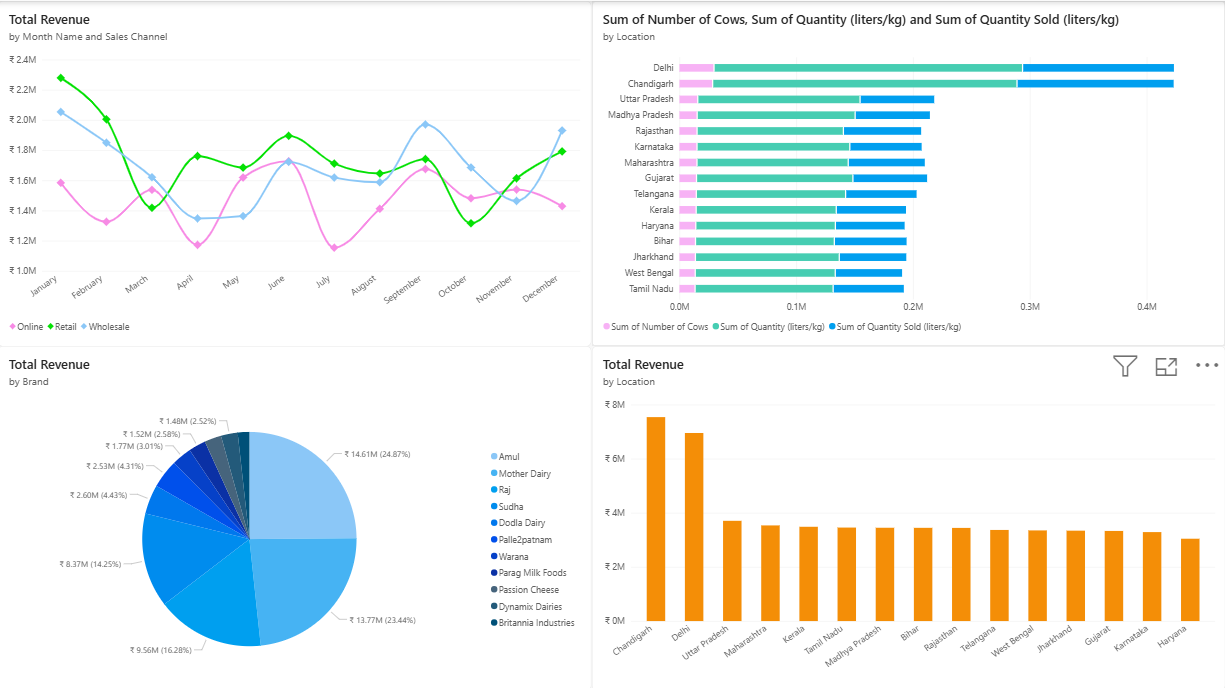

Layout of this report page (visuals, bound fields, positions):
{"tool":"powerbi","page":{"name":"Page 3","canvas":[1920,1080],"ordinal":1},"visuals":[{"type":"lineChart","fields":{"Category":["dairy_dataset.Month Name"],"Series":["dairy_dataset.Sales Channel"],"Y":["dairy_dataset.Total Revenue"]},"box":[0,0,927.5,540.2],"z":0},{"type":"clusteredColumnChart","fields":{"Category":["dairy_dataset.Location"],"Y":["dairy_dataset.Total Revenue"]},"box":[927.5,540.2,991.7,540.2],"z":1},{"type":"barChart","fields":{"Category":["dairy_dataset.Location"],"Y":["Sum(dairy_dataset.Number of Cows)","Sum(dairy_dataset.Quantity (liters/kg))","Sum(dairy_dataset.Quantity Sold (liters/kg))"]},"box":[927.5,0,991.7,540.2],"z":2},{"type":"pieChart","fields":{"Category":["dairy_dataset.Brand"],"Y":["dairy_dataset.Total Revenue"]},"box":[0,540.2,927.5,540.2],"z":3}]}

Visuals, with their boxes in screenshot pixels (x1, y1, x2, y2), scaled from the page's 1920x1080 canvas onto the 1225x688 screenshot:
lineChart - dairy_dataset.Month Name x dairy_dataset.Sales Channel: {"left": 0, "top": 0, "right": 592, "bottom": 344}
clusteredColumnChart - dairy_dataset.Location x dairy_dataset.Total Revenue: {"left": 592, "top": 344, "right": 1224, "bottom": 687}
barChart - dairy_dataset.Location x Sum(dairy_dataset.Number of Cows): {"left": 592, "top": 0, "right": 1224, "bottom": 344}
pieChart - dairy_dataset.Brand x dairy_dataset.Total Revenue: {"left": 0, "top": 344, "right": 592, "bottom": 687}
